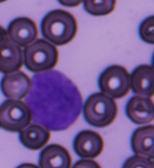B: (24, 68, 83, 130)
